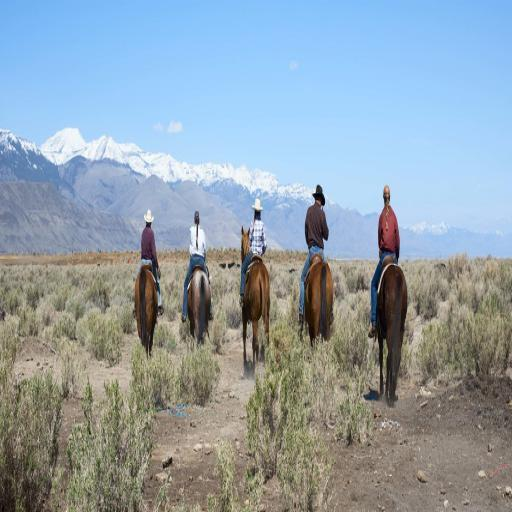horse: (376, 259, 409, 401), (242, 224, 272, 366), (304, 258, 336, 350), (133, 264, 158, 360), (186, 266, 212, 342)
